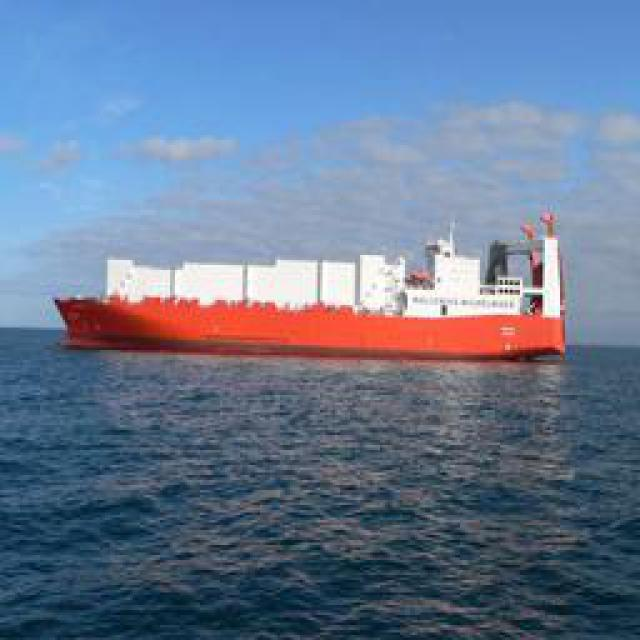Ship: (67, 210, 570, 368)
